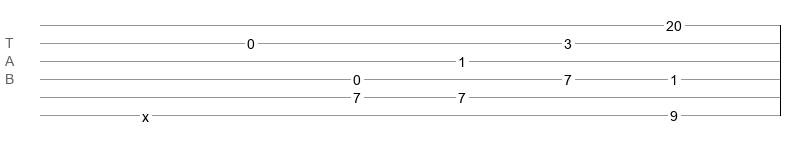0: (247, 36, 255, 46), (353, 72, 361, 82)
1: (458, 54, 466, 64), (670, 72, 678, 82)
20: (666, 18, 682, 28)
3: (564, 36, 572, 46)
7: (353, 90, 361, 100), (458, 90, 466, 100), (564, 72, 572, 82)
9: (670, 108, 678, 118)
x: (142, 109, 149, 117)
